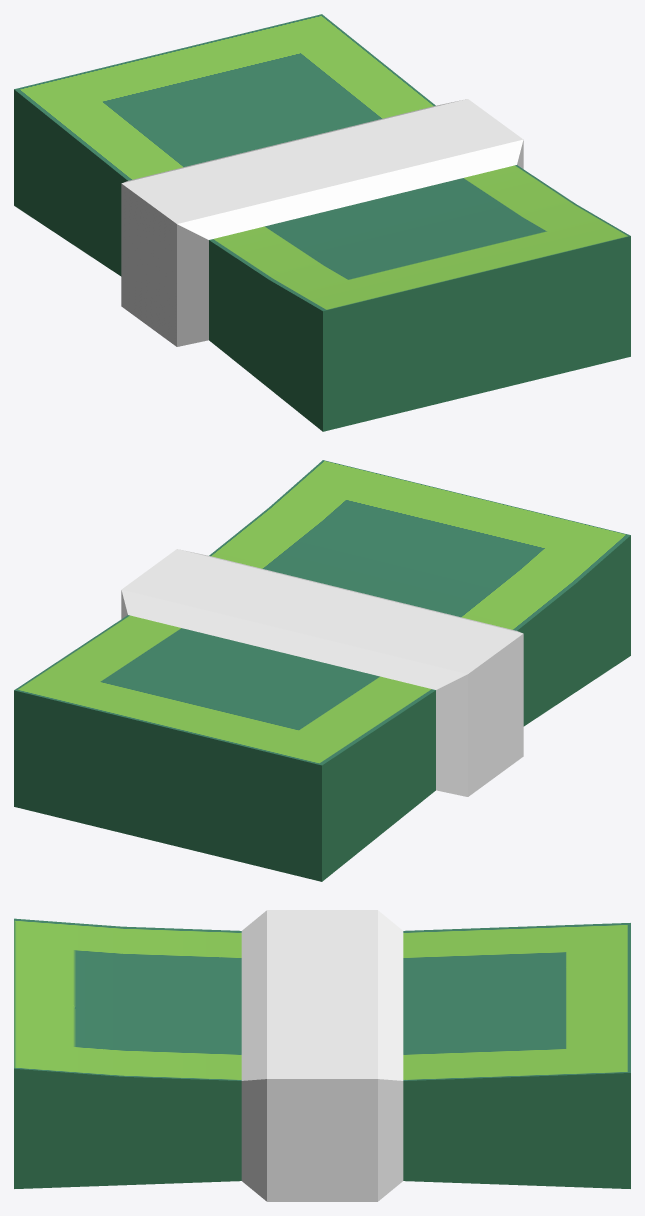
The model's file is collect_Cash.fbx.
3 renders of one model, top to bottom at view 1: azimuth 30°, elevation 25°; view 2: azimuth 150°, elevation 25°; view 3: azimuth 270°, elevation 25°, orthographic.
Parts seen in each view (by area): view 1: cashstack_cashstack; view 2: cashstack_cashstack; view 3: cashstack_cashstack.
Boxes of the visible parts, x1=… form: cashstack_cashstack: x1=14, y1=14, x2=630, y2=431; cashstack_cashstack: x1=14, y1=460, x2=630, y2=881; cashstack_cashstack: x1=14, y1=910, x2=630, y2=1201.
Size of the model in its own units: 12.49 by 4.27 by 19.29.
Materials: 1 (1 with a texture image).
